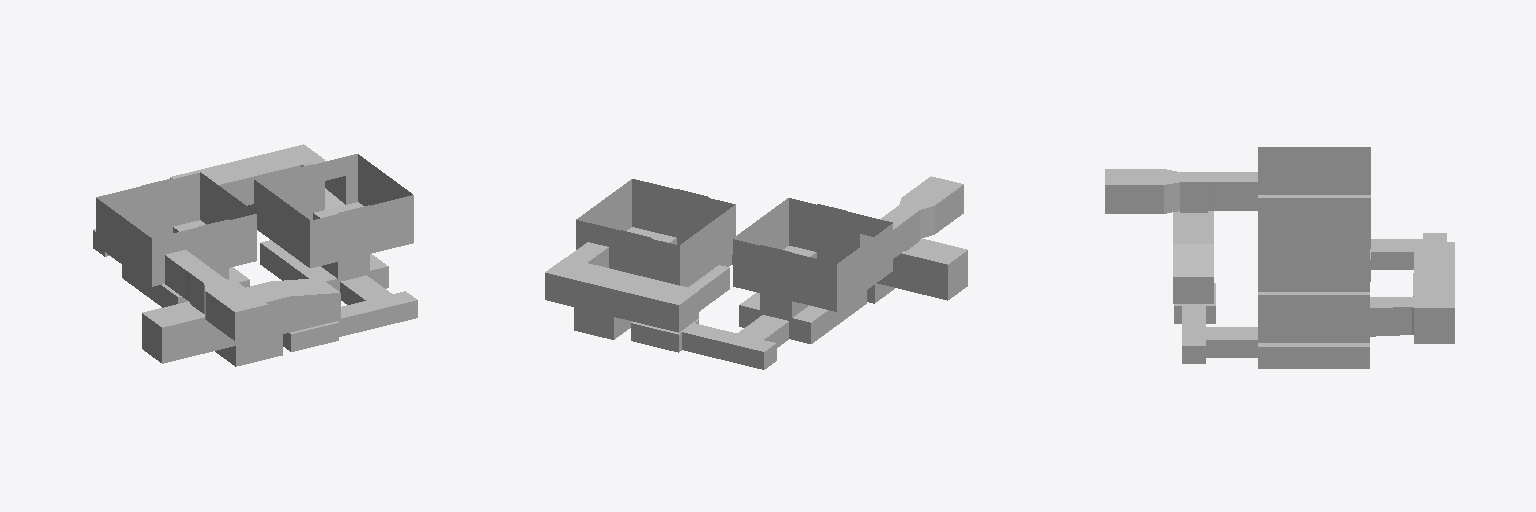
Rendered from Stage5.obj.
The picture shows the model from 3 angles: view 1: azimuth 30°, elevation 25°; view 2: azimuth 150°, elevation 25°; view 3: azimuth 270°, elevation 25°; orthographic projection.
Parts seen in each view (by area): view 1: Stage5; view 2: Stage5; view 3: Stage5.
Boxes of the visible parts, box(x1,y1,x2,y2) form: Stage5: box(93, 144, 417, 366); Stage5: box(545, 176, 967, 369); Stage5: box(1105, 147, 1454, 368).
Size of the model in its own units: 51.84 by 18.16 by 53.44.